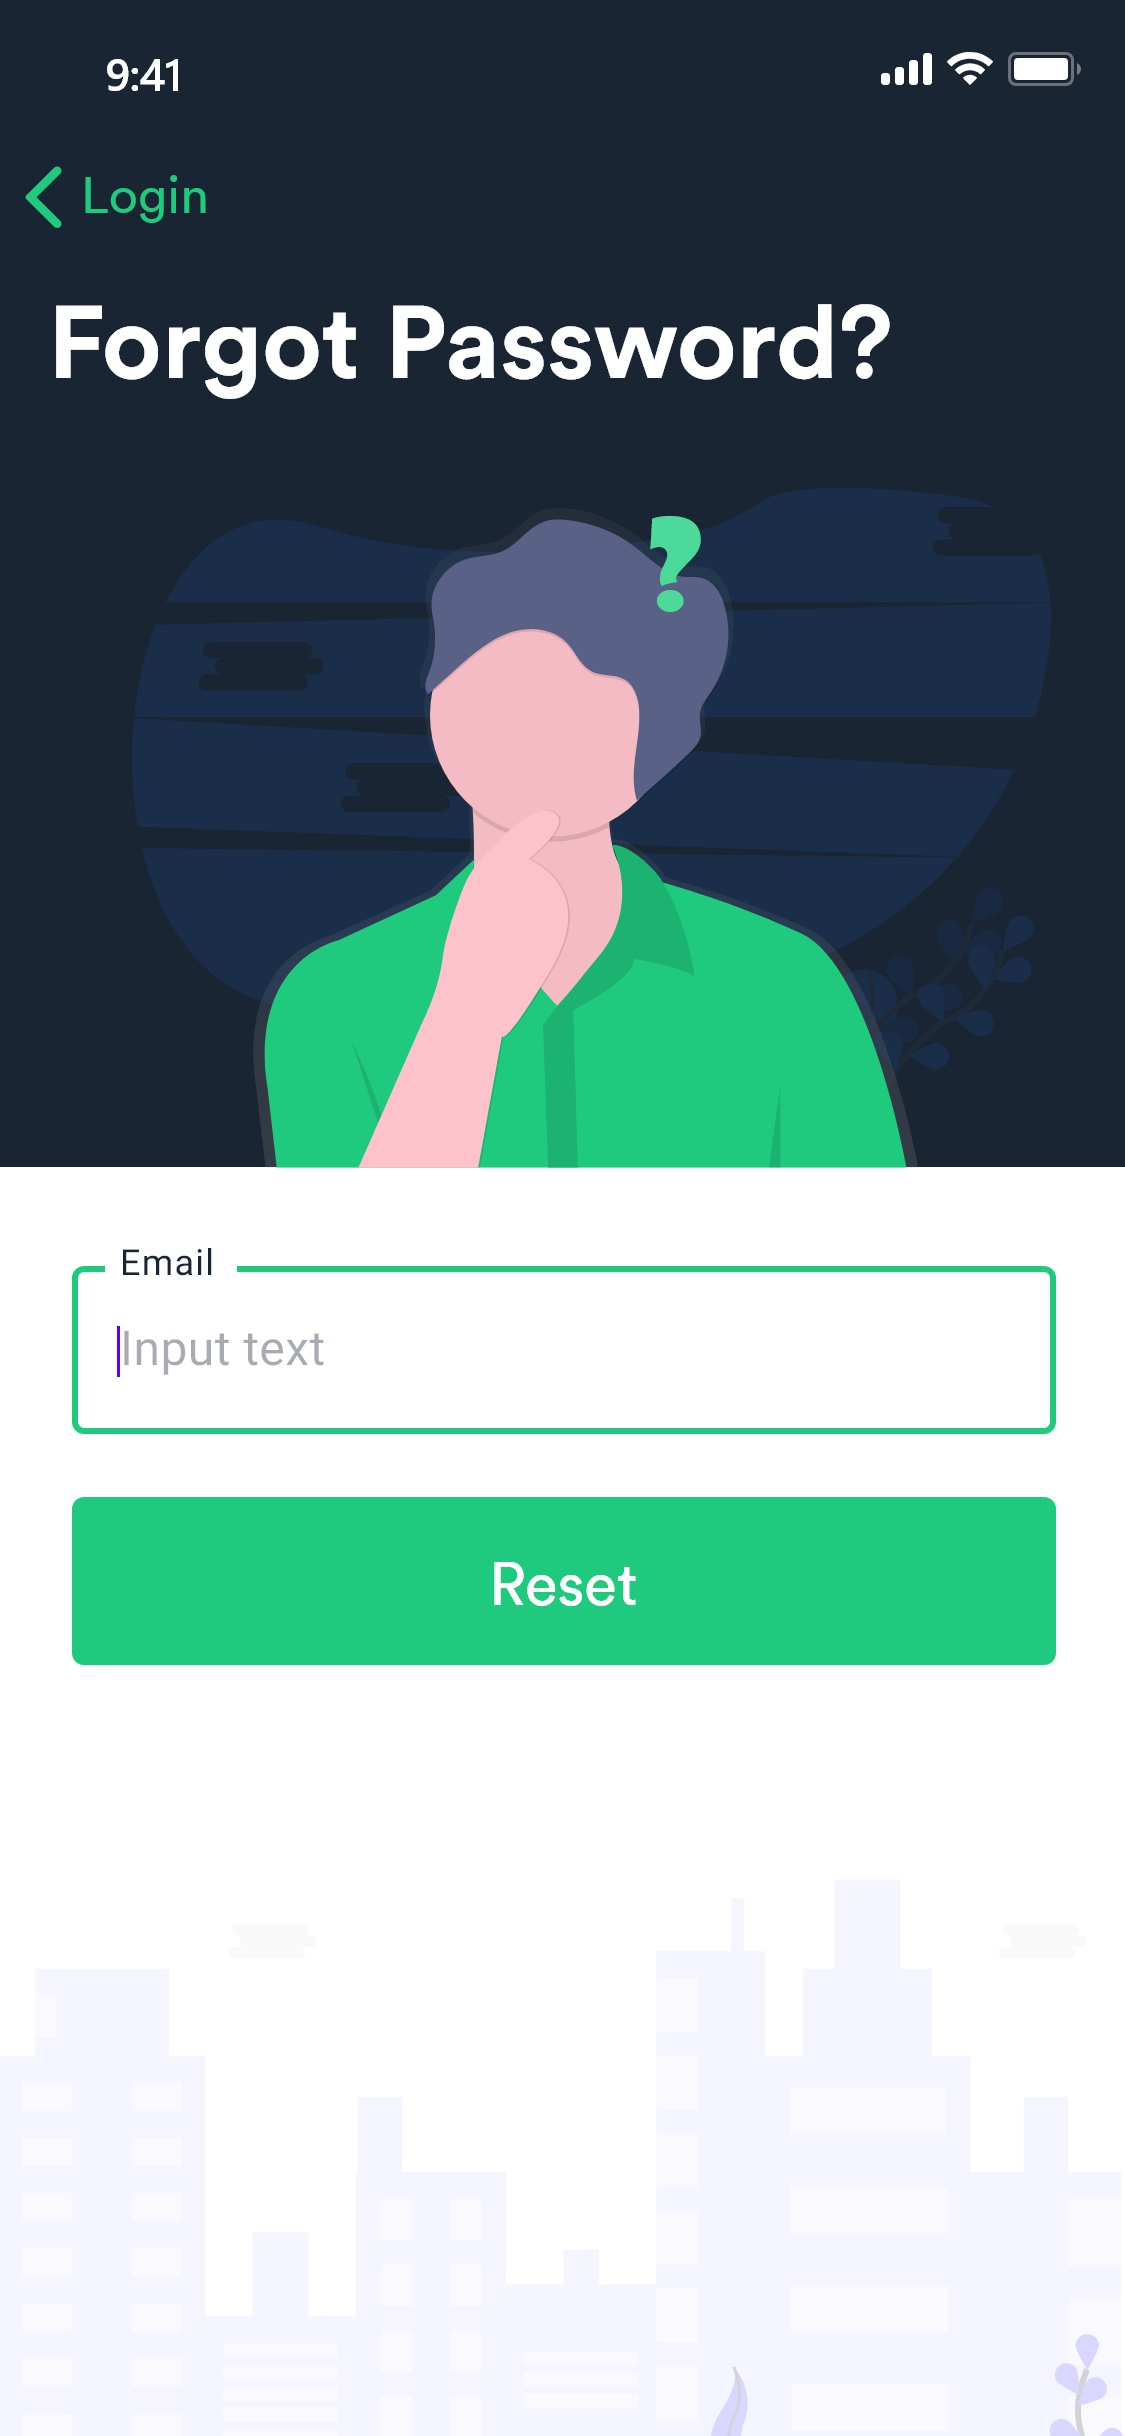EditText: (73, 1248, 1057, 1435)
Icon: (25, 166, 64, 231)
Image: (132, 486, 1052, 1168)
Text: (56, 304, 890, 401), (124, 1330, 325, 1376), (85, 174, 208, 225), (123, 1248, 213, 1277)
TextButton: (71, 1498, 1057, 1665)
UpperTaskBar: (107, 51, 1083, 93)
